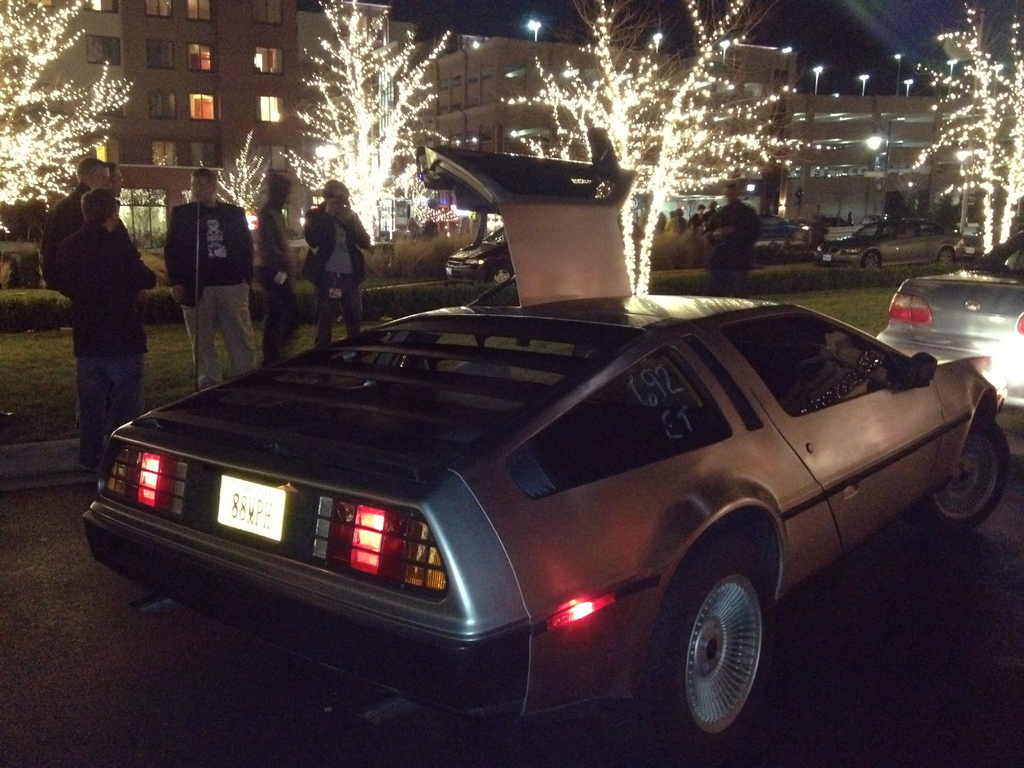person: (38, 155, 119, 286)
